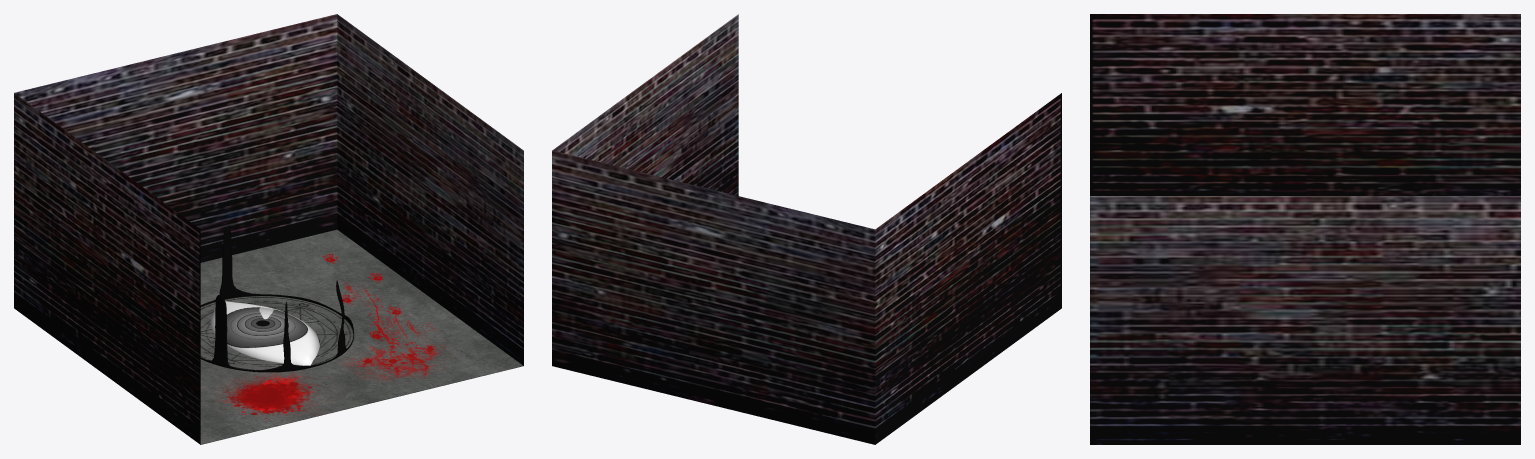
The model's file is Human Transmutation Circle.FBX.
3 views of the same model, side by side, from view 1: azimuth 30°, elevation 25°; view 2: azimuth 150°, elevation 25°; view 3: azimuth 270°, elevation 25° (orthographic). The views are drawn at different scales.
Parts seen in each view (by area): view 1: Human Transmutation; view 2: Human Transmutation; view 3: Human Transmutation.
Part boxes in pixels (x1,y1,x2,y2): Human Transmutation: (14,14,523,444); Human Transmutation: (552,14,1061,444); Human Transmutation: (1090,14,1520,444).
Bounding box in the file's own units: 140 × 89.31 × 140.
Materials: 4 (4 with a texture image).
